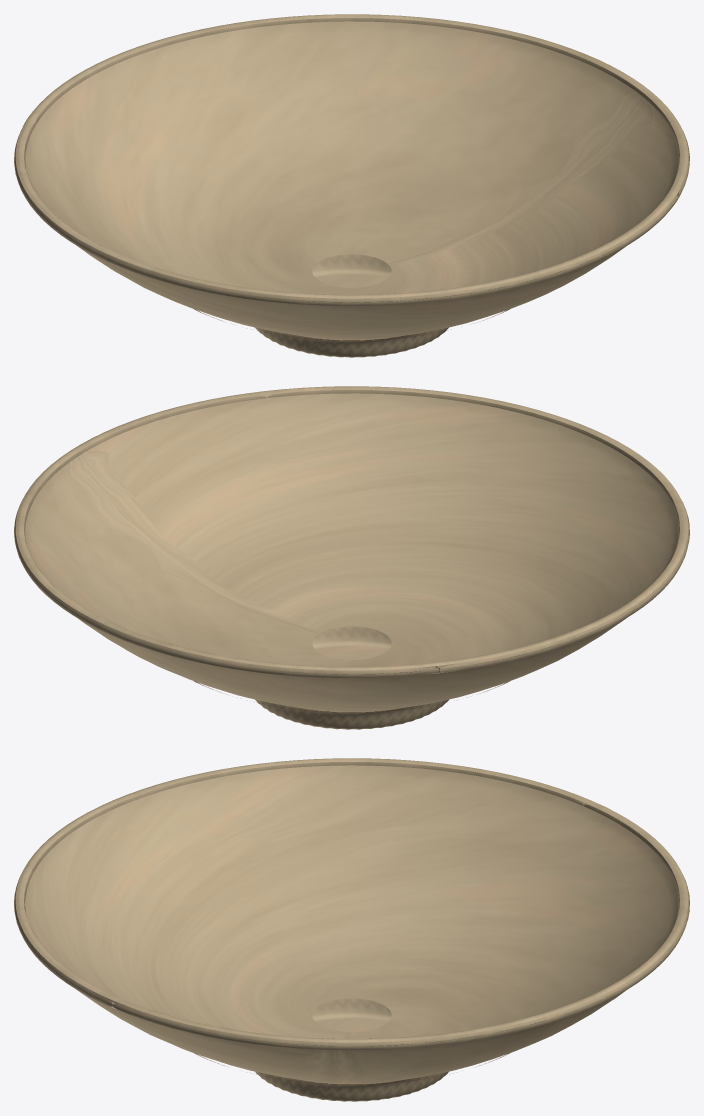
The model's file is PROP_Common_Bowl_Coarse.glb.
3 renders of one model, top to bottom at view 1: azimuth 30°, elevation 25°; view 2: azimuth 150°, elevation 25°; view 3: azimuth 270°, elevation 25°, orthographic.
Visible parts, largest first — view 1: PROP_Common_Bowl_Coarse; view 2: PROP_Common_Bowl_Coarse; view 3: PROP_Common_Bowl_Coarse.
Boxes of the visible parts, x1,y1,x2,y2 form: PROP_Common_Bowl_Coarse: (14,14,689,357); PROP_Common_Bowl_Coarse: (14,386,689,729); PROP_Common_Bowl_Coarse: (14,758,689,1101).
Size of the model in its own units: 0.766 by 0.2 by 0.766.
2 materials, 2 textured.
